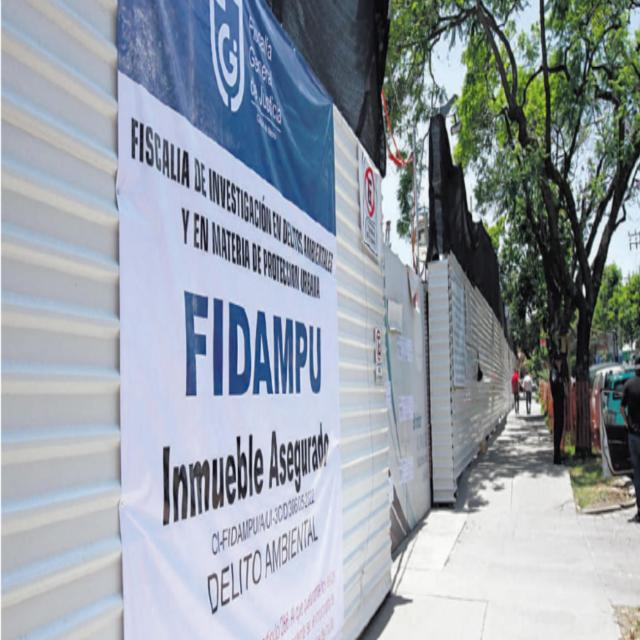stamps: (120, 5, 342, 639)
